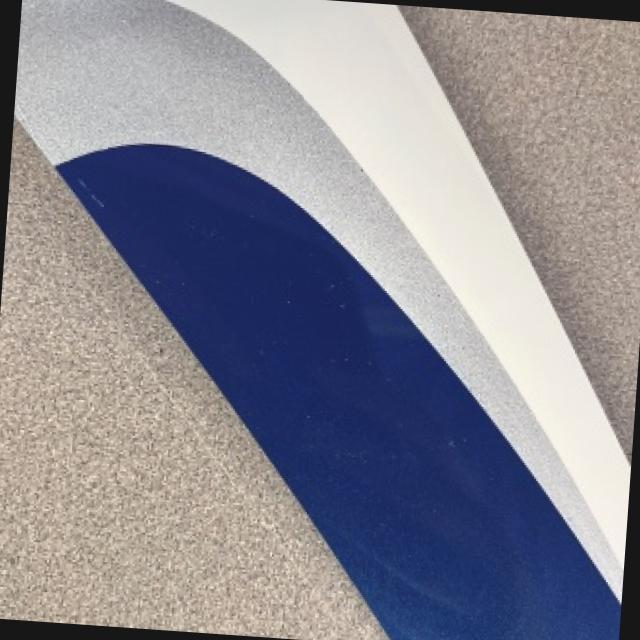healthy: (0, 123, 383, 640)
